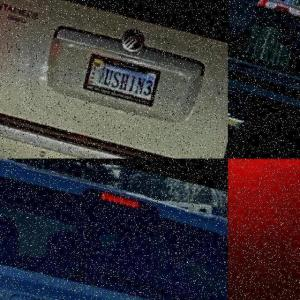Plate: (83, 49, 163, 103)
